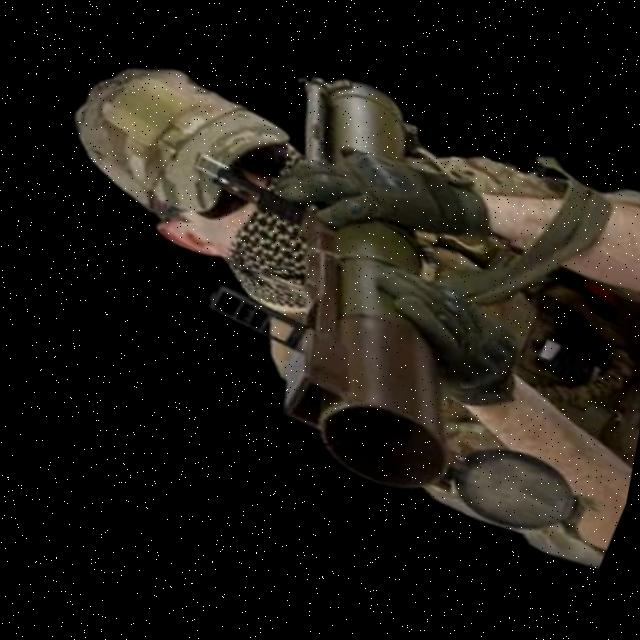rocket: (153, 40, 594, 522)
